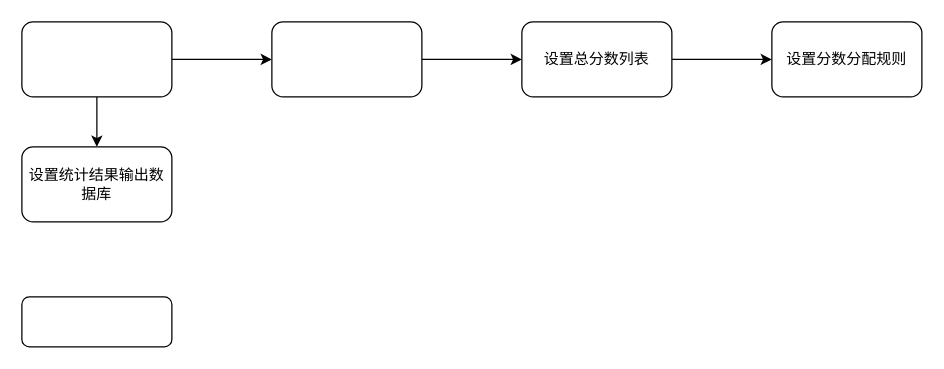
Some shapes in this 944 by 369 pixel diagram are drawn without their labels. Each missing label, with the centre of its shape:
设置待统计数据库列表: (x=96, y=59)
设置统计列表(person): (x=346, y=59)
